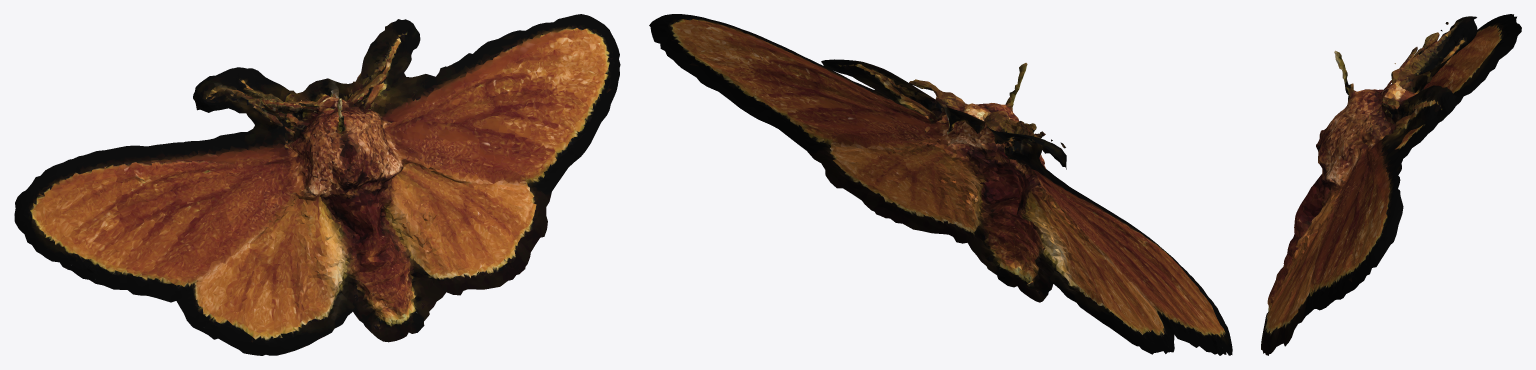
The model's file is moth.dae.
3 renders of one model, left to right at view 1: azimuth 30°, elevation 25°; view 2: azimuth 150°, elevation 25°; view 3: azimuth 270°, elevation 25°, orthographic. The views are drawn at different scales.
Parts seen in each view (by area): view 1: node; view 2: node; view 3: node.
Boxes of the visible parts, x1,y1,x2,y2 form: node: (14, 14, 620, 355); node: (649, 14, 1232, 355); node: (1261, 14, 1521, 355).
Size of the model in its own units: 0.0473 by 0.0201 by 0.0169.
Materials: 1 (1 with a texture image).
